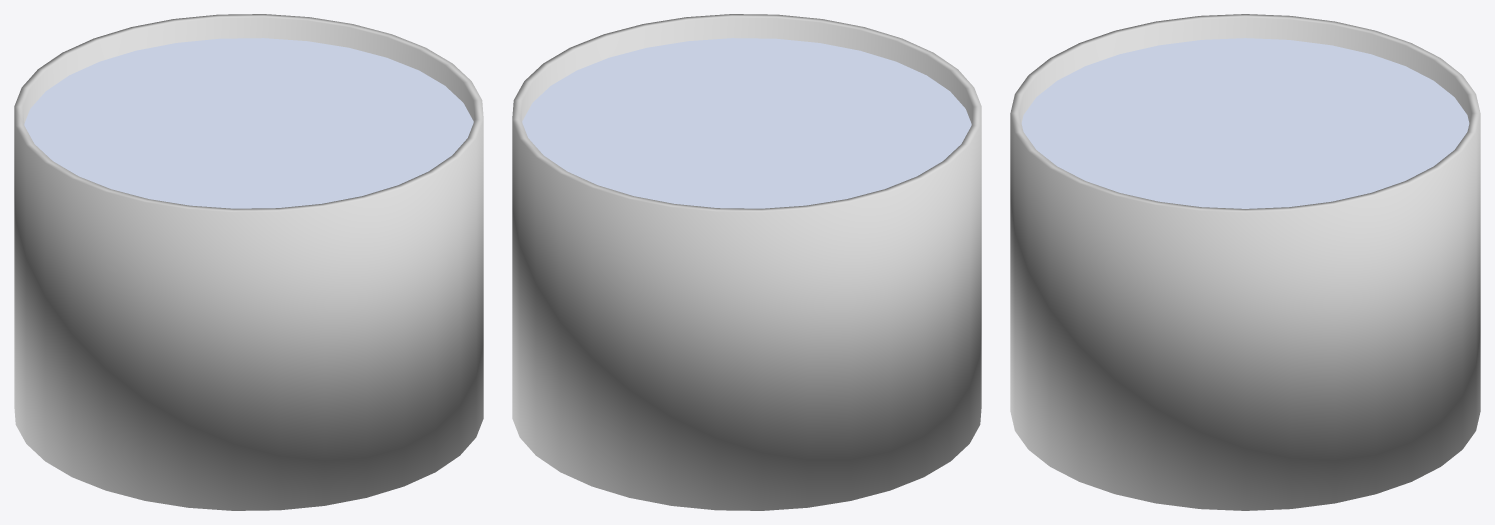
File: glass.fbx
The picture shows the model from 3 angles, left to right: view 1: azimuth 30°, elevation 25°; view 2: azimuth 150°, elevation 25°; view 3: azimuth 270°, elevation 25°; orthographic projection.
Parts seen in each view (by area): view 1: Cylinder, Cylinder.001; view 2: Cylinder, Cylinder.001; view 3: Cylinder, Cylinder.001.
Boxes of the visible parts, <box> form: Cylinder: <box>14,14,483,510</box>; Cylinder.001: <box>24,38,473,208</box>; Cylinder: <box>512,14,981,510</box>; Cylinder.001: <box>522,38,971,208</box>; Cylinder: <box>1010,14,1480,510</box>; Cylinder.001: <box>1021,38,1469,208</box>.
Bounding box in the file's own units: 200 × 140 × 200.
